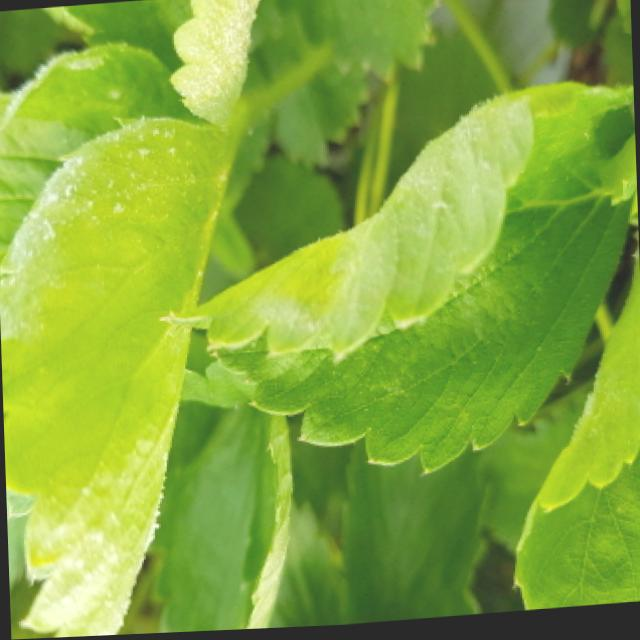Powdery Mildew Leaf: (167, 87, 637, 481), (0, 116, 247, 638), (0, 47, 205, 274), (63, 0, 260, 136)
